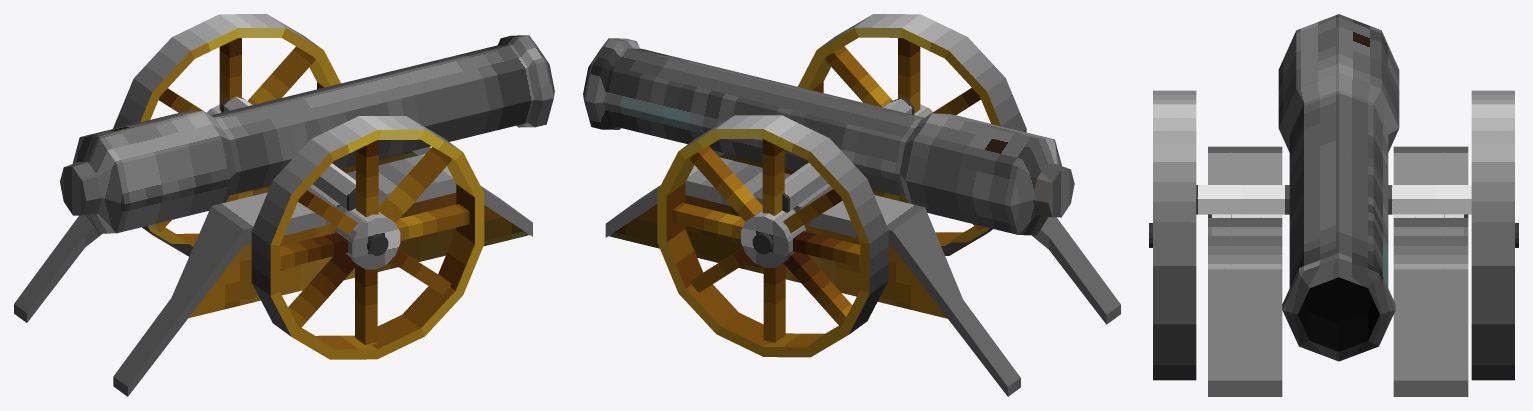
The model's file is cannon_702.gltf.
3 renders of one model, left to right at view 1: azimuth 30°, elevation 25°; view 2: azimuth 150°, elevation 25°; view 3: azimuth 270°, elevation 25°, orthographic. The views are drawn at different scales.
Visible parts, largest first — view 1: cannon_702; view 2: cannon_702; view 3: cannon_702.
Part boxes in pixels (left/top/right/bottom): cannon_702: left=14, top=14, right=554, bottom=396; cannon_702: left=583, top=14, right=1120, bottom=396; cannon_702: left=1149, top=14, right=1518, bottom=396.
Bounding box in the file's own units: 4.25 × 2 × 2.55.
Materials: 1 (1 with a texture image).
